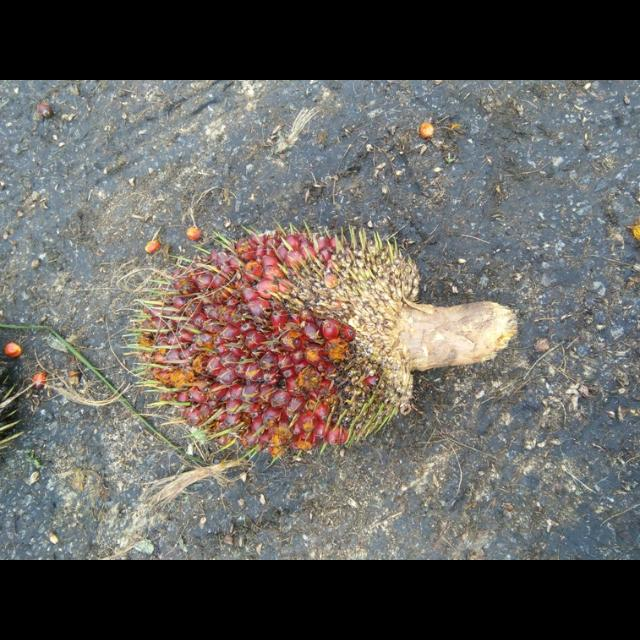Ripe: (133, 221, 423, 460)
